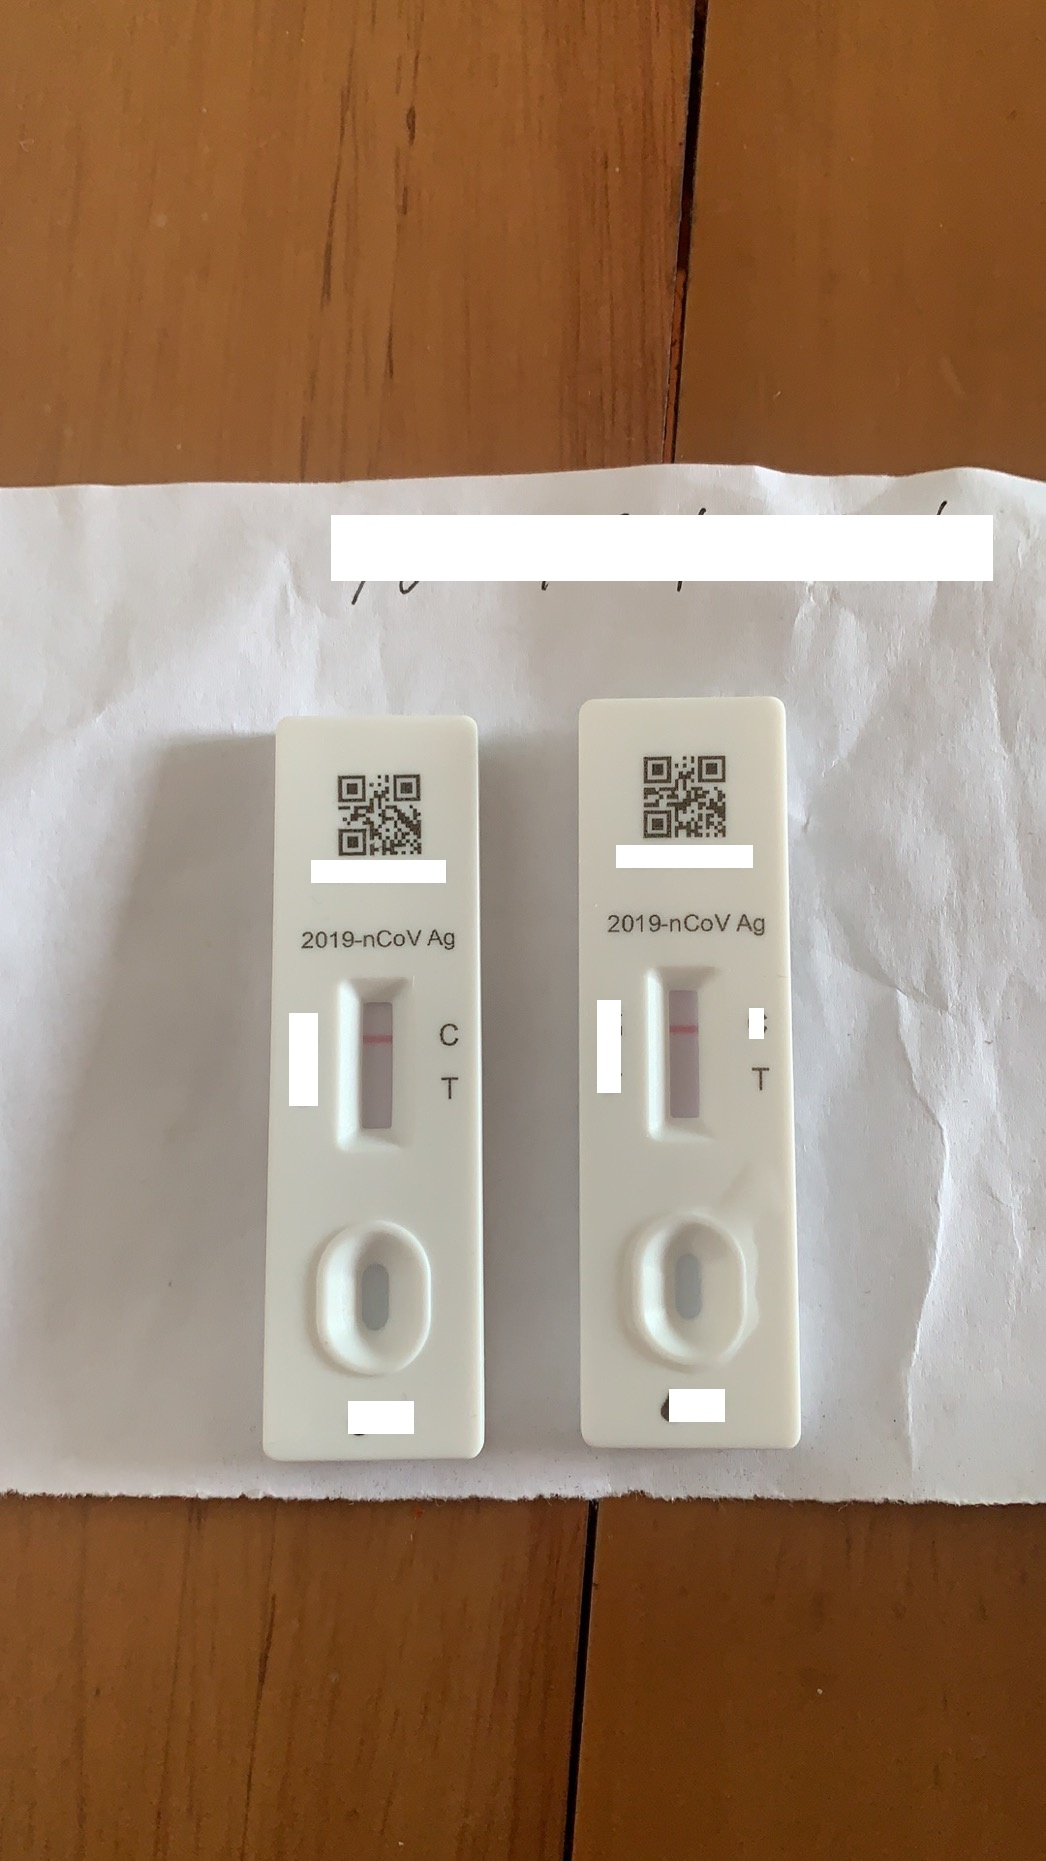negative: (650, 954, 721, 1141), (339, 975, 416, 1144)
